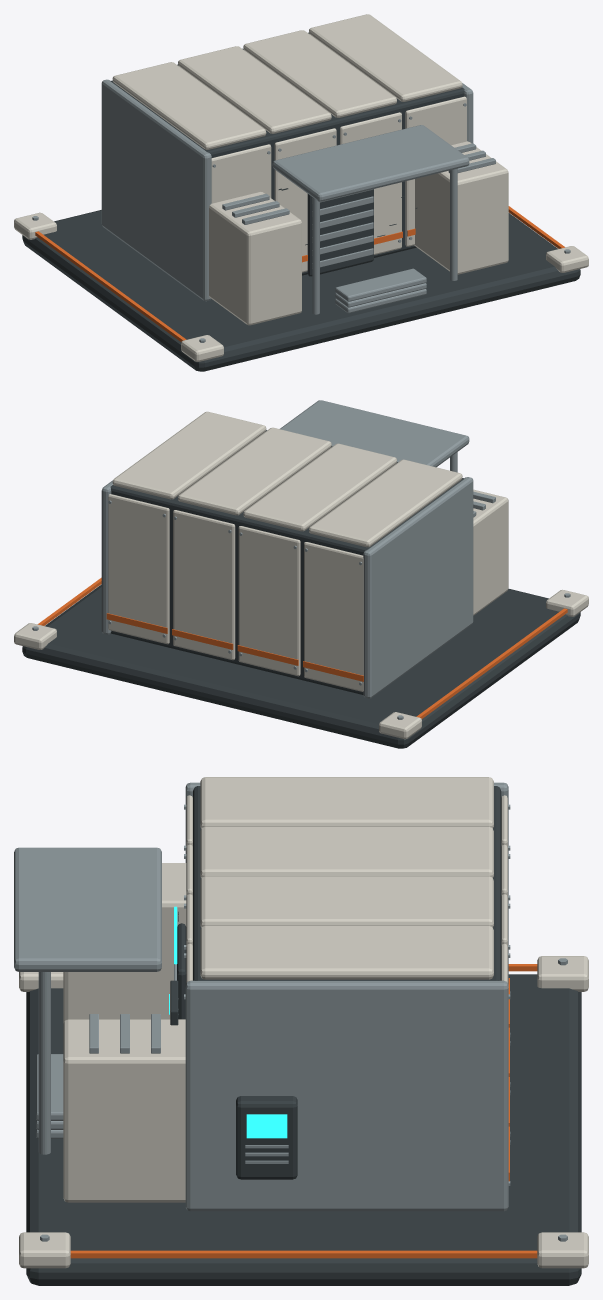
File: SM_CrudeWorkshop_Body.002.fbx
The picture shows the model from 3 angles, top to bottom: view 1: azimuth 30°, elevation 25°; view 2: azimuth 150°, elevation 25°; view 3: azimuth 270°, elevation 25°; orthographic projection. The views are drawn at different scales.
Visible parts, largest first — view 1: SM_CrudeWorkshop_Body.002; view 2: SM_CrudeWorkshop_Body.002; view 3: SM_CrudeWorkshop_Body.002.
Part boxes in pixels (x1,y1,x2,y2): SM_CrudeWorkshop_Body.002: (14,14,588,371); SM_CrudeWorkshop_Body.002: (14,400,588,748); SM_CrudeWorkshop_Body.002: (14,777,588,1285).
Size of the model in its own units: 572 by 466 by 243.
